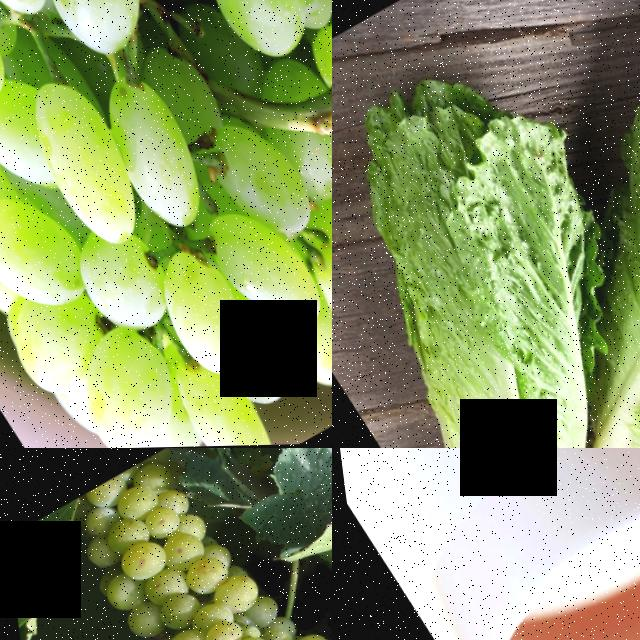grapes: (0, 0, 332, 448), (48, 448, 332, 640), (78, 0, 332, 99)
lettuce: (332, 24, 640, 445), (542, 0, 640, 418)
